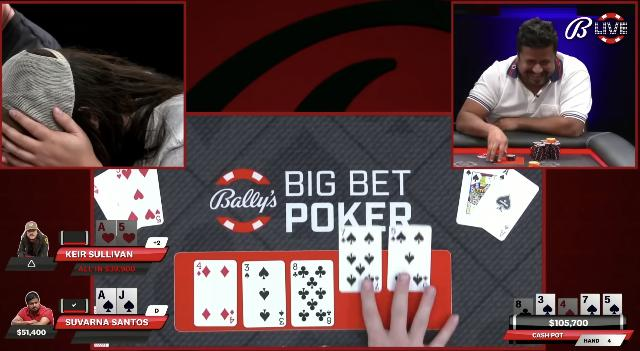3S: (537, 294, 555, 316)
4D: (559, 300, 577, 316)
5H: (118, 221, 136, 247)
5S: (603, 295, 621, 315)
7S: (581, 295, 599, 315)
8C: (514, 299, 532, 315)
AH: (98, 221, 116, 247)
AS: (96, 290, 115, 314)
JD: (118, 290, 136, 314)
